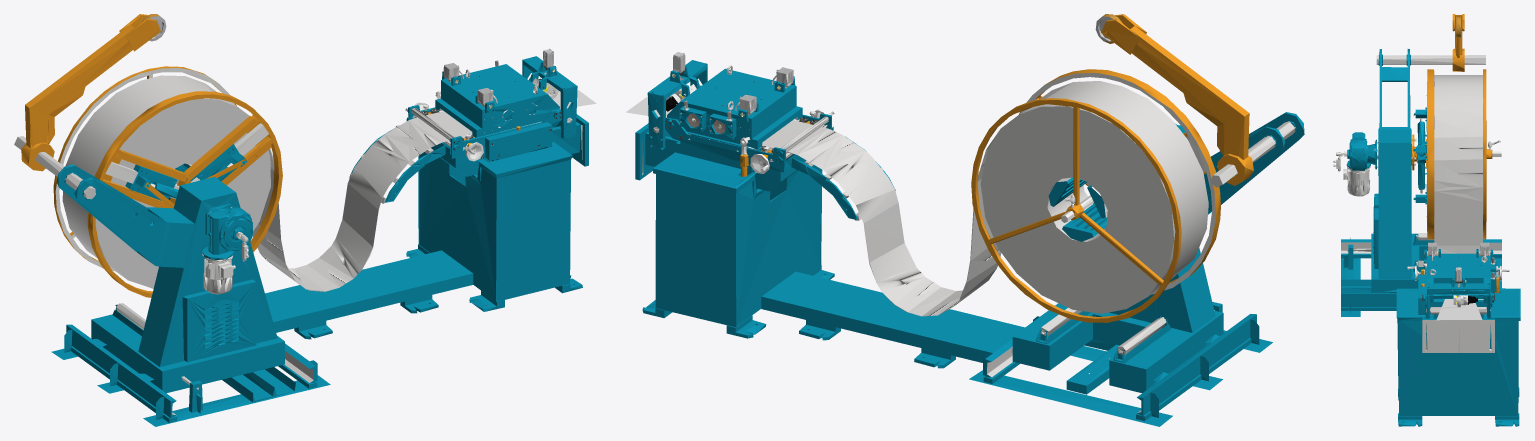
Rendered from AssiemeV2.glb.
The picture shows the model from 3 angles, left to right: view 1: azimuth 30°, elevation 25°; view 2: azimuth 150°, elevation 25°; view 3: azimuth 270°, elevation 25°; orthographic projection. The views are drawn at different scales.
Parts seen in each view (by area): view 1: SM20 BP+TRAS_ASS; view 2: SM20 BP+TRAS_ASS; view 3: SM20 BP+TRAS_ASS, Cube.
Boxes of the visible parts, left/top/right/bottom form: SM20 BP+TRAS_ASS: left=14, top=14, right=588, bottom=426; SM20 BP+TRAS_ASS: left=635, top=14, right=1304, bottom=426; SM20 BP+TRAS_ASS: left=1333, top=14, right=1520, bottom=426; Cube: left=1436, top=299, right=1482, bottom=320.
Size of the model in its own units: 4.09 by 2.38 by 1.54.
42 materials, 3 textured.
